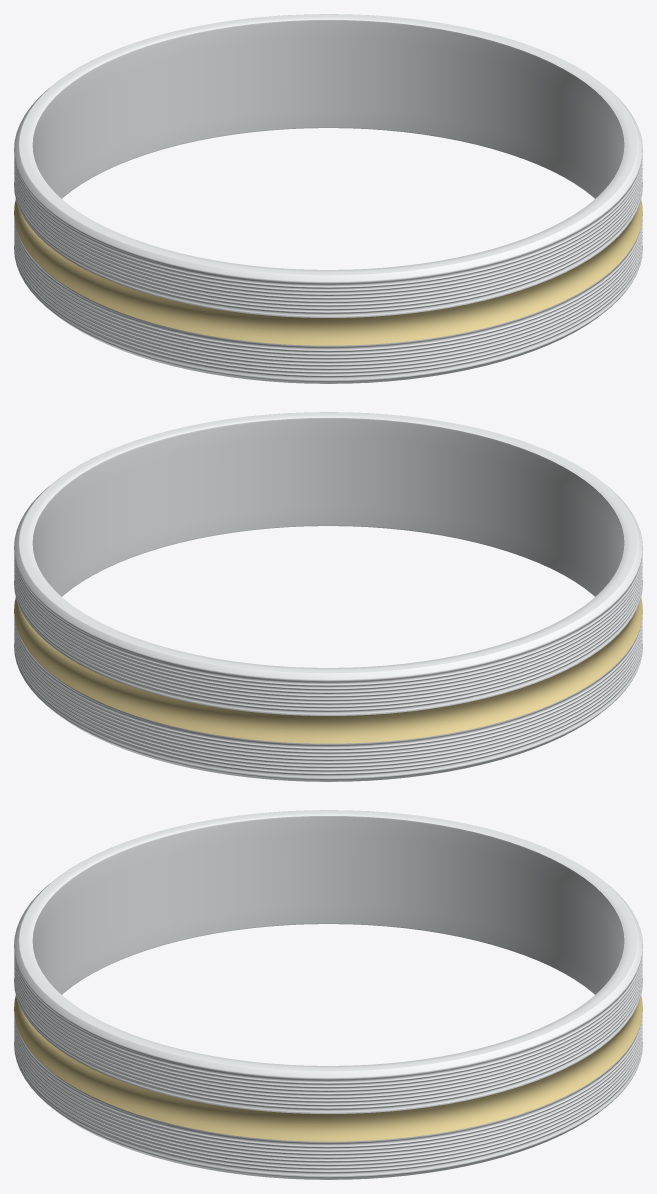
3 renders of one model, top to bottom at view 1: azimuth 30°, elevation 25°; view 2: azimuth 150°, elevation 25°; view 3: azimuth 270°, elevation 25°, orthographic.
Visible parts, largest first — view 1: Base_Metal, Engraving_Metal, Finishing_Metal; view 2: Base_Metal, Engraving_Metal, Finishing_Metal; view 3: Base_Metal, Engraving_Metal, Finishing_Metal.
Part boxes in pixels (x1=…): Base_Metal: x1=14, y1=14, x2=642, y2=383; Engraving_Metal: x1=33, y1=21, x2=623, y2=198; Finishing_Metal: x1=14, y1=199, x2=642, y2=345; Base_Metal: x1=14, y1=412, x2=642, y2=781; Engraving_Metal: x1=33, y1=419, x2=623, y2=596; Finishing_Metal: x1=14, y1=597, x2=642, y2=743; Base_Metal: x1=14, y1=810, x2=642, y2=1179; Engraving_Metal: x1=33, y1=817, x2=623, y2=994; Finishing_Metal: x1=14, y1=995, x2=642, y2=1141.
Bounding box in the file's own units: 1.99 × 0.38 × 1.99.
